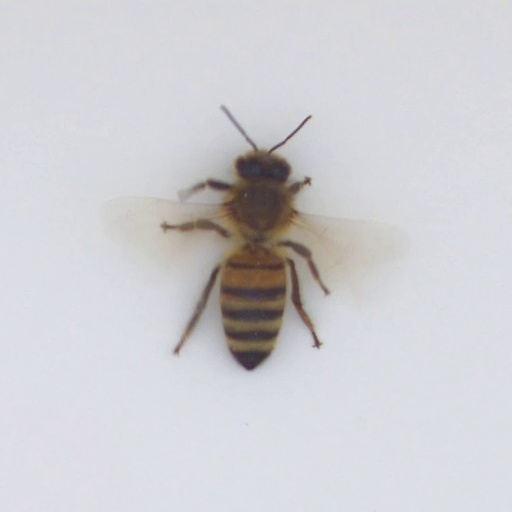Bee: (226, 148, 290, 359)
Thorax: (226, 177, 301, 235)
